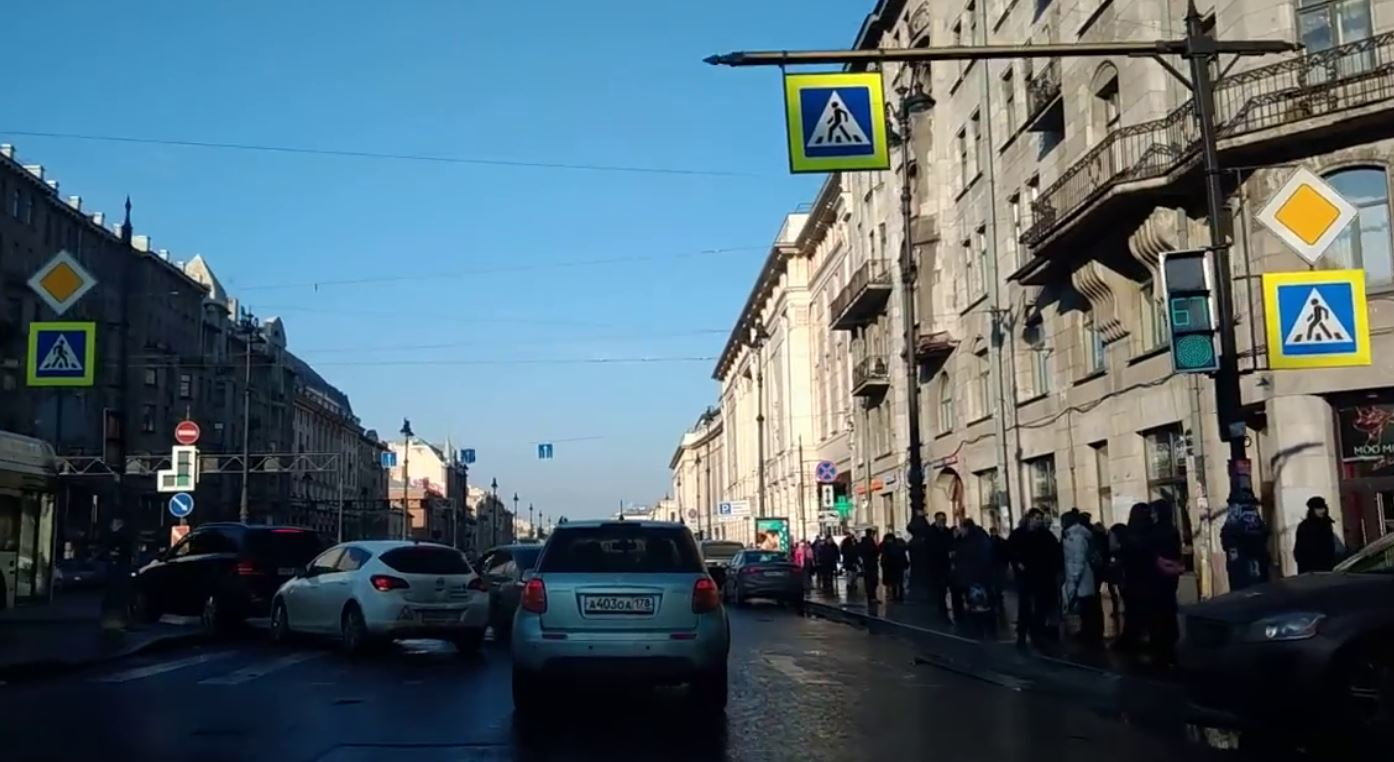Yaya Gecidi: (1276, 284, 1363, 356), (799, 89, 879, 156), (35, 326, 91, 378)
